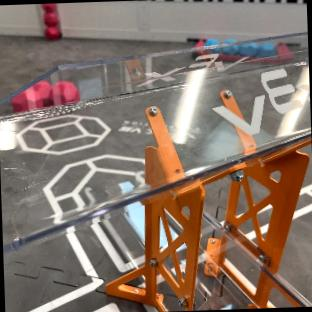V5_RED: (12, 80, 80, 112)
